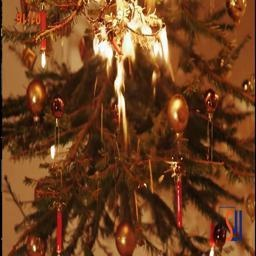fire: (91, 14, 171, 86)
